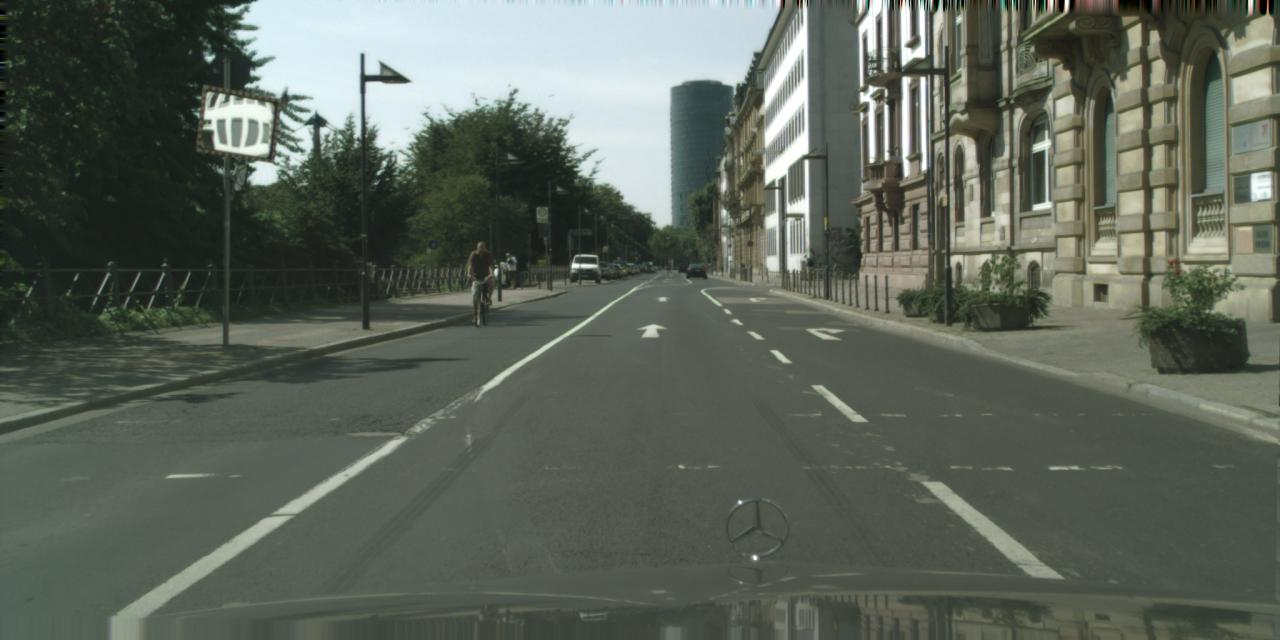ped: (466, 242, 494, 312), (502, 252, 517, 288), (801, 253, 813, 283)
